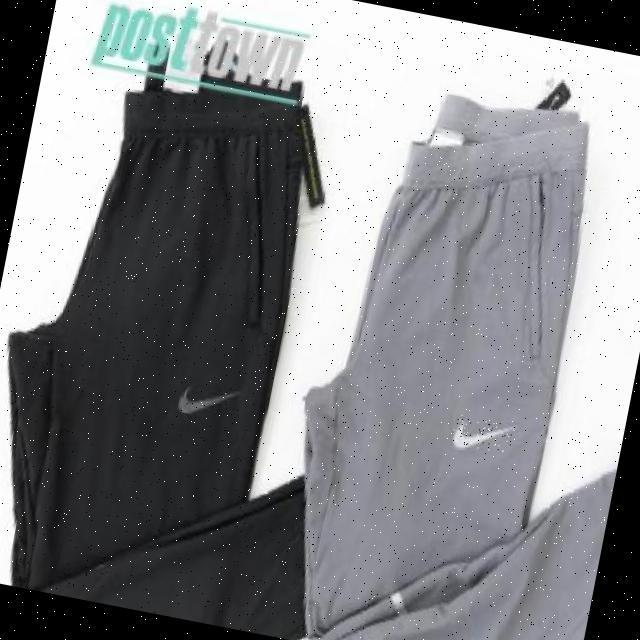Nike: (451, 414, 516, 456), (177, 379, 242, 420)
